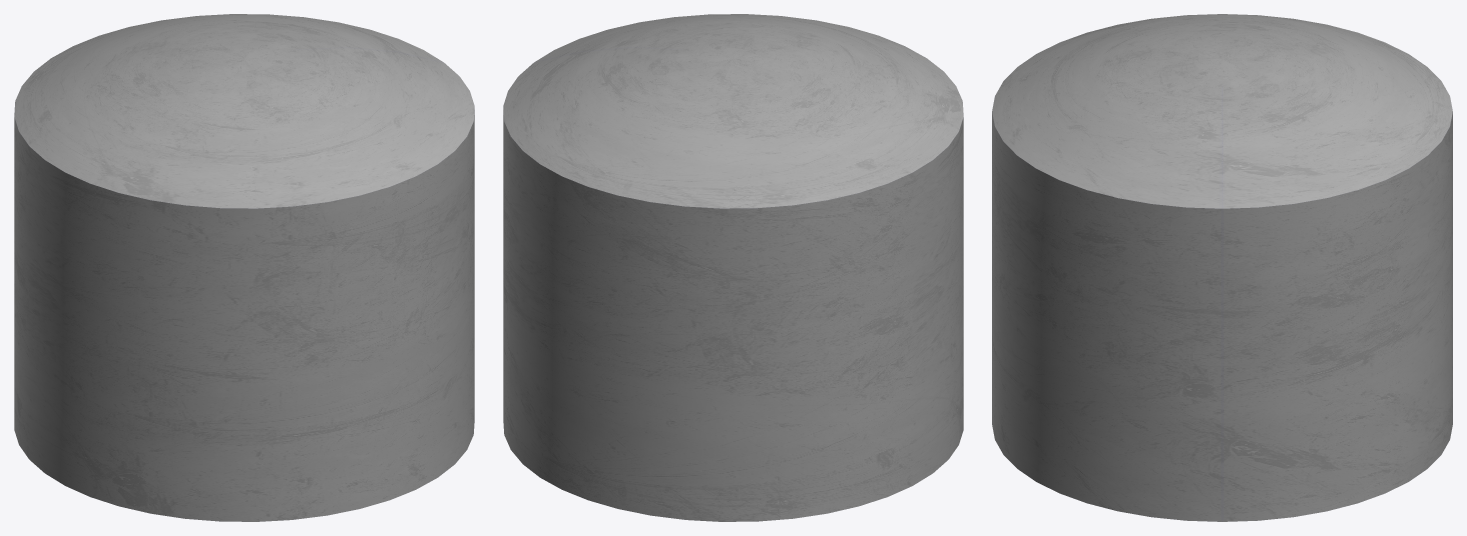
Rendered from Oil Tank.glb.
3 renders of one model, left to right at view 1: azimuth 30°, elevation 25°; view 2: azimuth 150°, elevation 25°; view 3: azimuth 270°, elevation 25°, orthographic.
Visible parts, largest first — view 1: Oil Tank; view 2: Oil Tank; view 3: Oil Tank.
Boxes of the visible parts, x1,y1,x2,y2 form: Oil Tank: (14,14,474,521); Oil Tank: (503,14,963,521); Oil Tank: (992,14,1452,521).
Bounding box in the file's own units: 2 × 2 × 2.
1 material, 1 textured.
